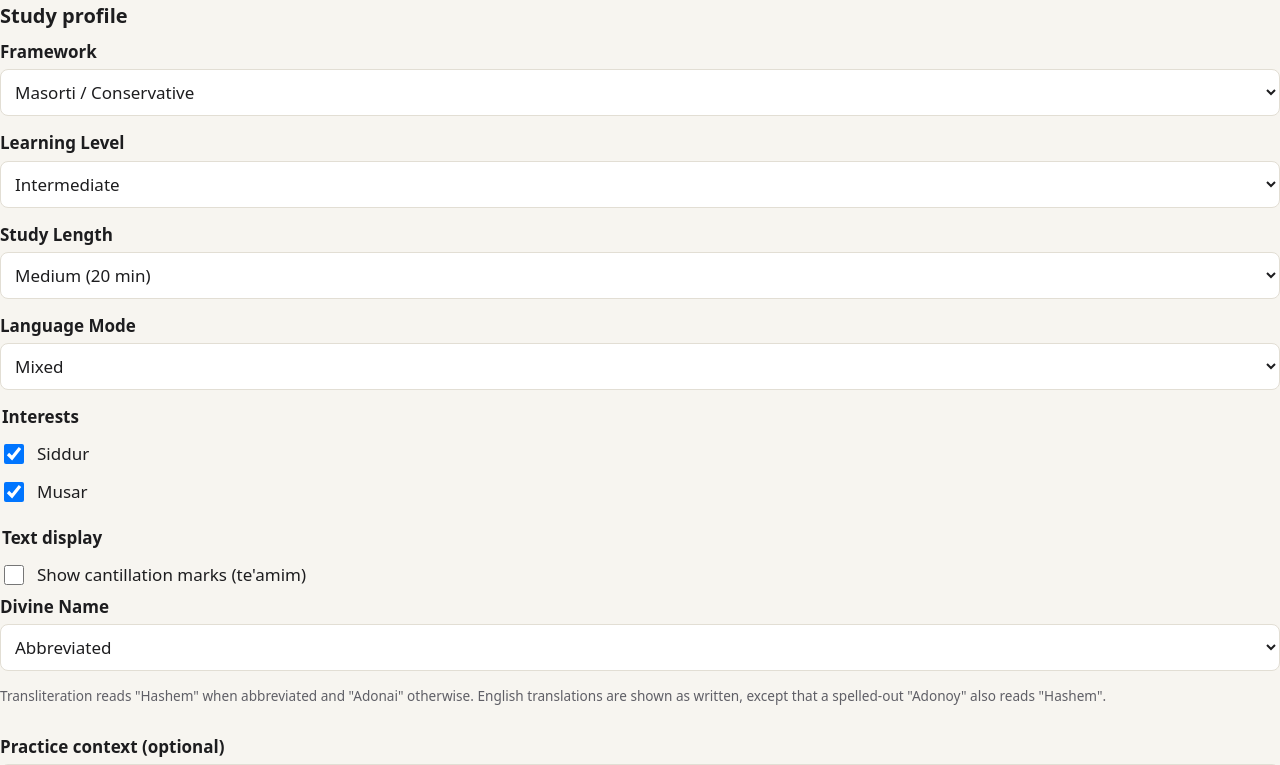
Test: SettingsScreen › uses option names from the API and saves the edited profile
Select "Reform" in the dropdown labelled "Framework": (640, 93) [0, 69, 1279, 116]
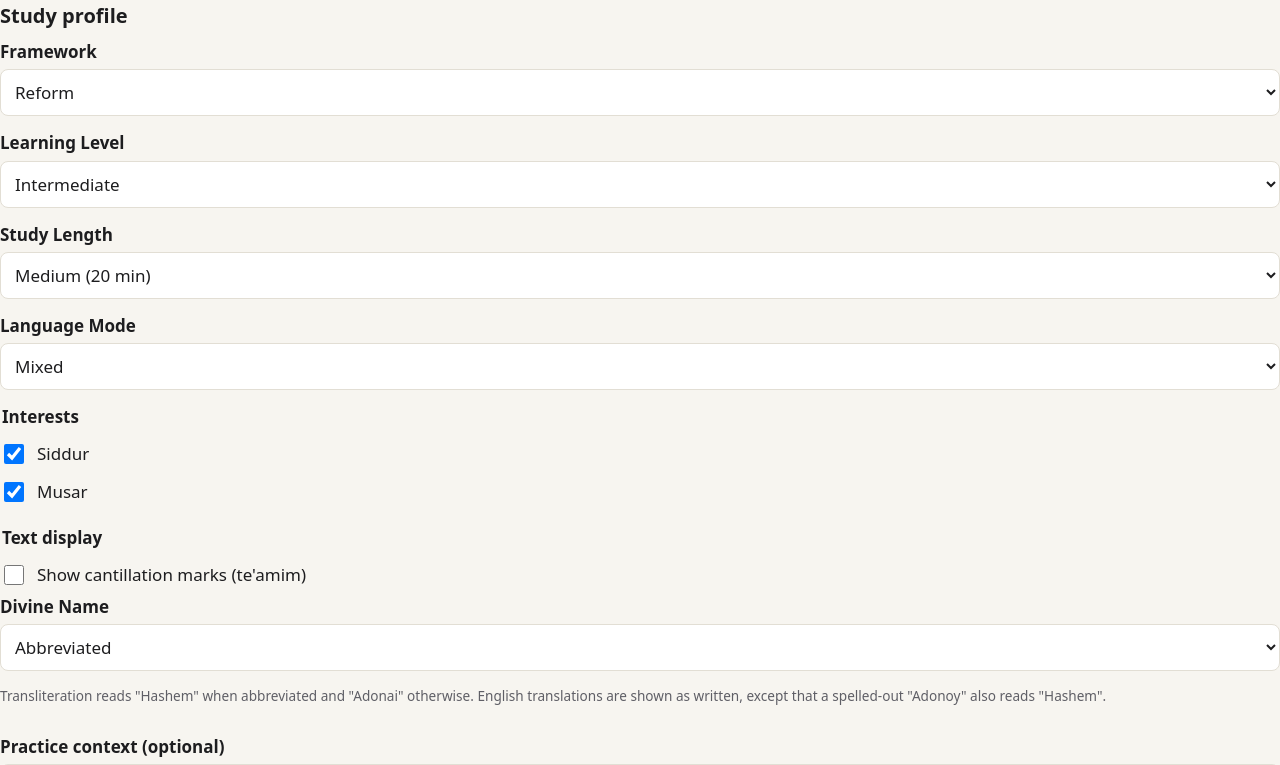
Click the checkbox labelled "Musar": (14, 492) [4, 482, 24, 502]
(page scrolled)
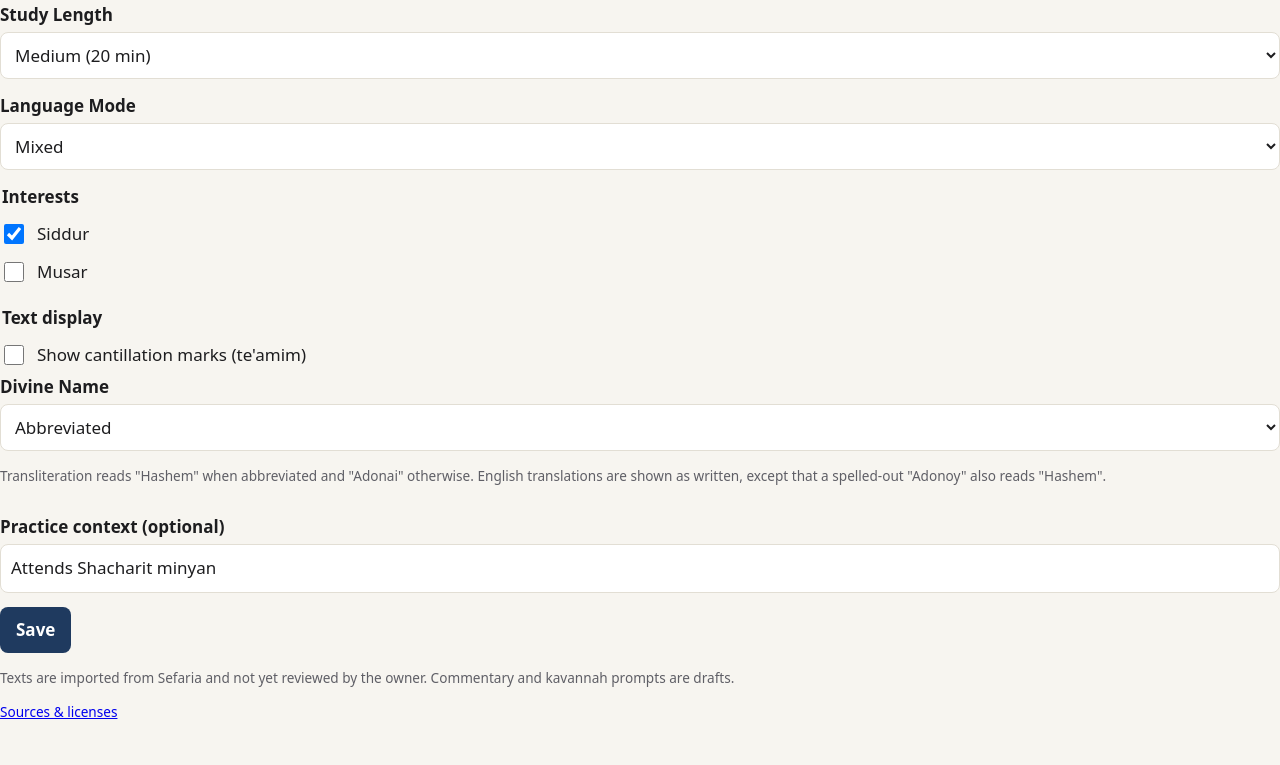
Click the button "Save": (36, 630) [0, 607, 71, 653]
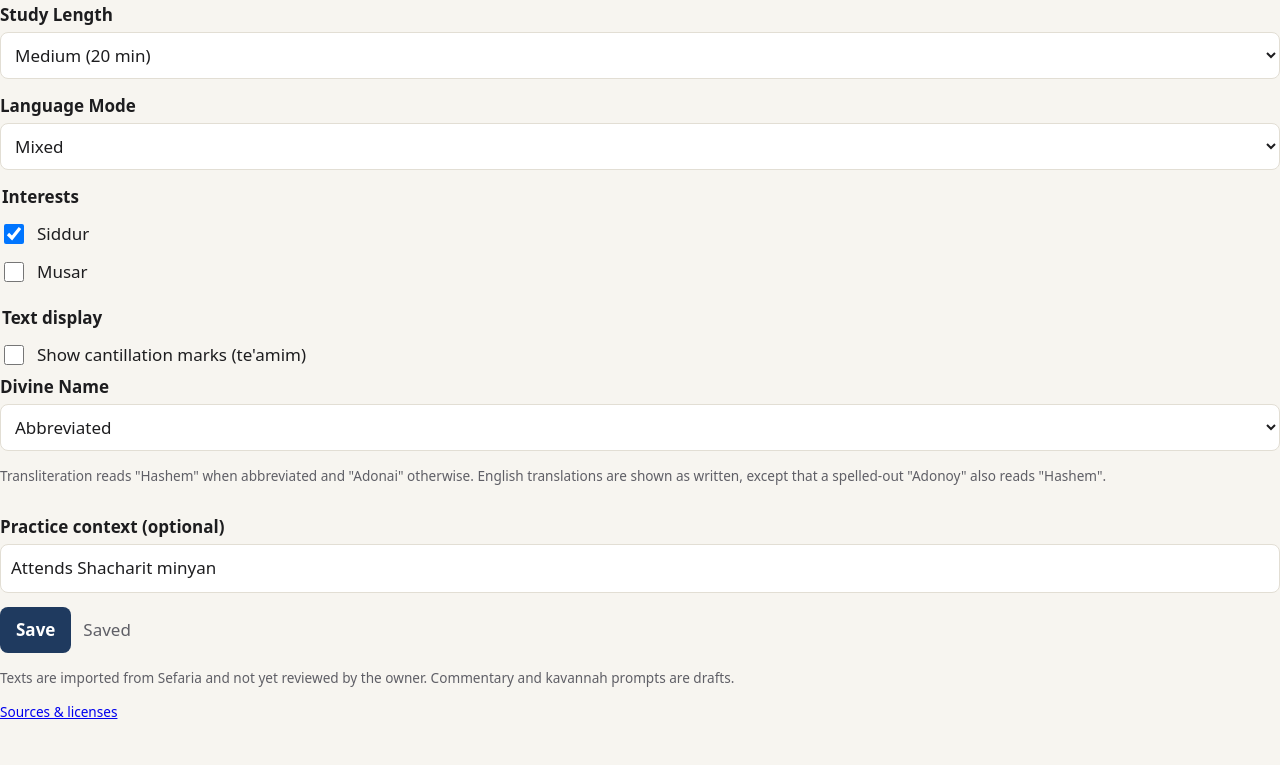
Expected: the message "Saved" is shown, [83, 617, 131, 643]
